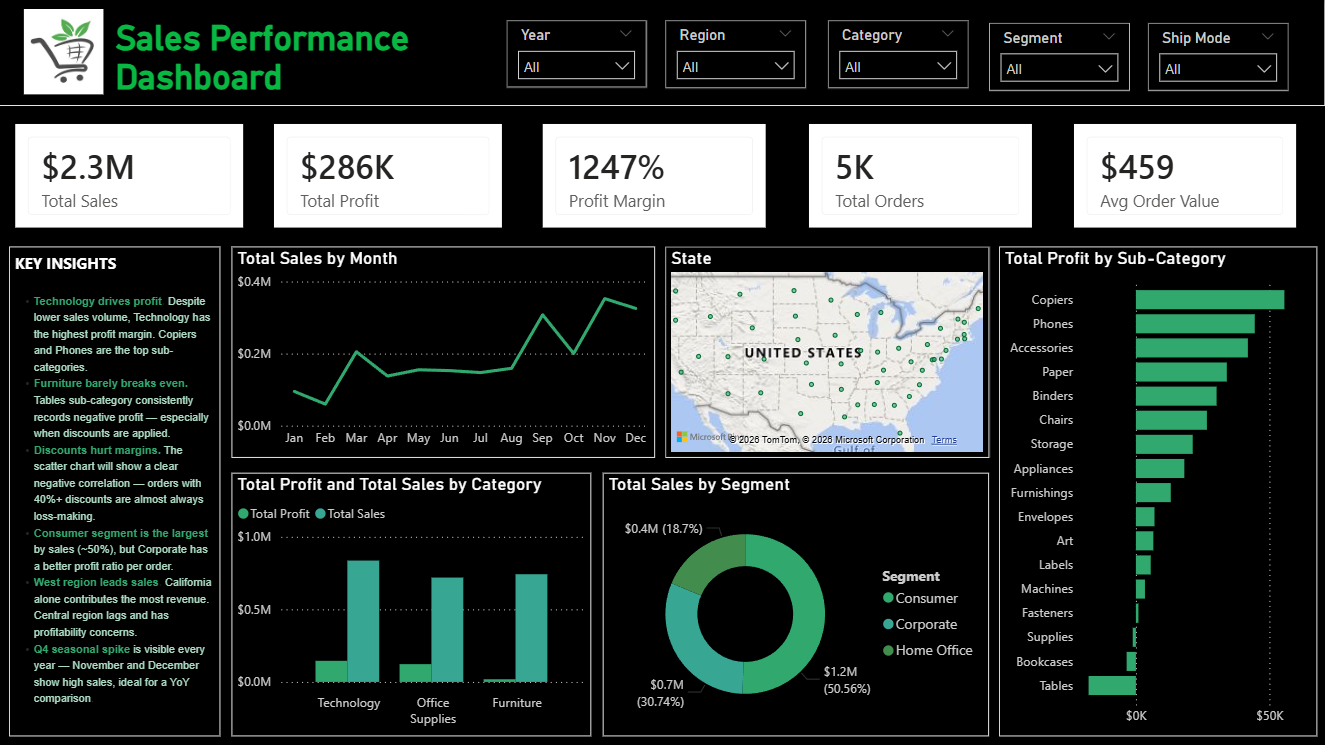

Layout of this report page (visuals, bound fields, positions):
{"tool":"powerbi","page":{"name":"Page 1","canvas":[1280,720],"ordinal":0},"visuals":[{"type":"textbox","box":[0,0,1280,103.3],"z":0},{"type":"cardVisual","fields":{"Data":["Sample - Superstore.Total Profit"]},"box":[260,115.7,230,110],"z":2000},{"type":"cardVisual","fields":{"Data":["Sample - Superstore.Profit Margin"]},"box":[520,115.7,225.7,110],"z":3000},{"type":"cardVisual","fields":{"Data":["Sample - Superstore.Total Orders"]},"box":[777.1,115.7,225.7,110],"z":4000},{"type":"cardVisual","fields":{"Data":["Sample - Superstore.Avg Order Value"]},"box":[1032.9,115.7,224.3,110],"z":5000},{"type":"lineChart","fields":{"Category":["DateTable.Month"],"Y":["Sample - Superstore.Total Sales"]},"box":[224.3,238.6,408.6,204.3],"z":6000},{"type":"clusteredColumnChart","fields":{"Category":["Sample - Superstore.Category"],"Y":["Sample - Superstore.Total Profit","Sample - Superstore.Total Sales"]},"box":[224.3,457.1,347.1,254.3],"z":7000},{"type":"barChart","fields":{"Category":["Sample - Superstore.Sub-Category"],"Y":["Sample - Superstore.Total Profit"]},"box":[965.7,238.6,307.1,472.9],"z":8000},{"type":"map","fields":{"Category":["Sample - Superstore.State"]},"box":[642.9,238.6,312.9,204.3],"z":9000},{"type":"donutChart","fields":{"Category":["Sample - Superstore.Segment"],"Y":["Sample - Superstore.Total Sales"]},"box":[582.9,457.1,372.9,254.3],"z":10000},{"type":"slicer","fields":{"Values":["DateTable.Year"]},"box":[490,20,135,65],"z":12000},{"type":"textbox","box":[10,238.6,204.3,472.9],"z":17000},{"type":"image","box":[0,10,125,82.5],"z":17001},{"type":"textbox","title":"Sales Performance Dashboard","box":[107.5,17.5,365,75],"z":17002},{"type":"cardVisual","fields":{"Data":["Sample - Superstore.Total Sales"]},"box":[11.4,115.7,230,110],"z":17003},{"type":"slicer","fields":{"Values":["Sample - Superstore.Region"]},"box":[642.9,20,135.7,65.7],"z":17004},{"type":"slicer","fields":{"Values":["Sample - Superstore.Category"]},"box":[800,20,135.7,65.7],"z":17005},{"type":"slicer","fields":{"Values":["Sample - Superstore.Segment"]},"box":[955.7,22.9,135.7,65.7],"z":17006},{"type":"slicer","fields":{"Values":["Sample - Superstore.Ship Mode"]},"box":[1108.6,22.9,135.7,65.7],"z":17007}]}

Visuals, with their boxes in screenshot pixels (x1, y1, x2, y2), scaled from the page's 1280x720 canvas onto the 1325x745 screenshot:
textbox: (0, 0, 1324, 107)
cardVisual - Sample - Superstore.Total Profit: (269, 120, 507, 234)
cardVisual - Sample - Superstore.Profit Margin: (538, 120, 772, 234)
cardVisual - Sample - Superstore.Total Orders: (804, 120, 1038, 234)
cardVisual - Sample - Superstore.Avg Order Value: (1069, 120, 1301, 234)
lineChart - DateTable.Month x Sample - Superstore.Total Sales: (232, 247, 655, 458)
clusteredColumnChart - Sample - Superstore.Category x Sample - Superstore.Total Profit: (232, 473, 591, 736)
barChart - Sample - Superstore.Sub-Category x Sample - Superstore.Total Profit: (1000, 247, 1318, 736)
map - Sample - Superstore.State: (666, 247, 989, 458)
donutChart - Sample - Superstore.Segment x Sample - Superstore.Total Sales: (603, 473, 989, 736)
slicer - DateTable.Year: (507, 21, 647, 88)
textbox: (10, 247, 222, 736)
image: (0, 10, 129, 96)
"Sales Performance Dashboard" textbox: (111, 18, 489, 96)
cardVisual - Sample - Superstore.Total Sales: (12, 120, 250, 234)
slicer - Sample - Superstore.Region: (666, 21, 806, 89)
slicer - Sample - Superstore.Category: (828, 21, 969, 89)
slicer - Sample - Superstore.Segment: (989, 24, 1130, 92)
slicer - Sample - Superstore.Ship Mode: (1148, 24, 1288, 92)
